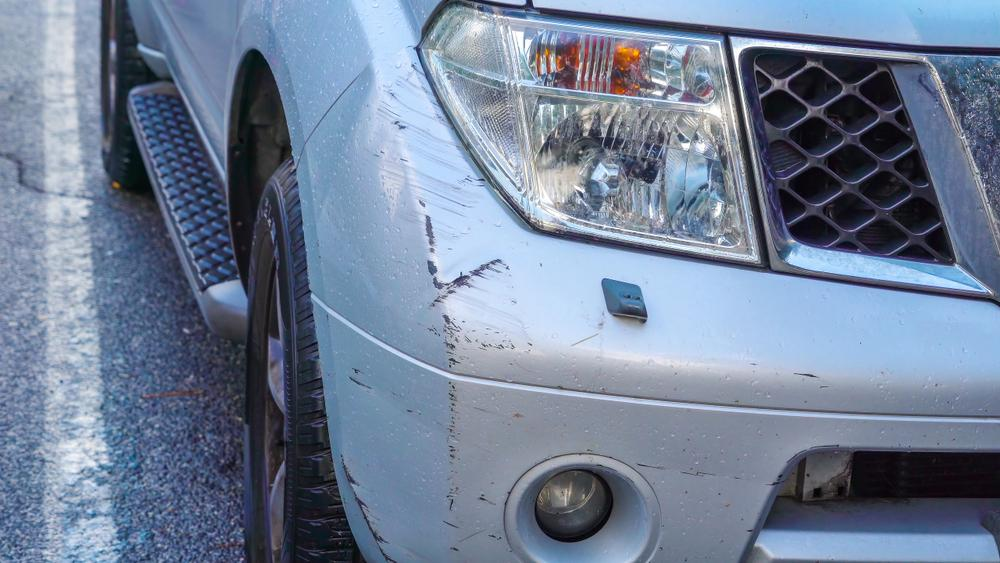scratch: (339, 61, 530, 563)
